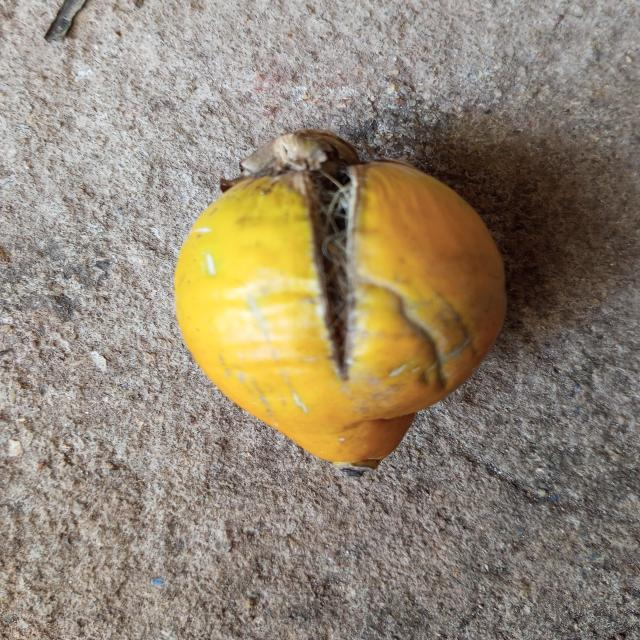damaged: (173, 130, 508, 471)
